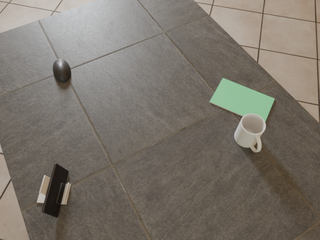book: (210, 78, 274, 121)
cup: (234, 114, 266, 152)
mouse: (53, 59, 71, 82)
phone: (42, 163, 69, 217)
